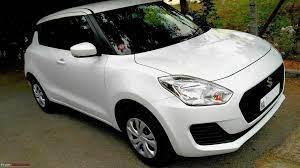Hatchback: (24, 0, 290, 164)
